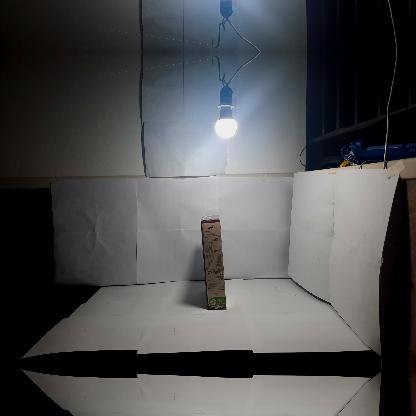Koko-Krunch: (200, 214, 226, 310)
